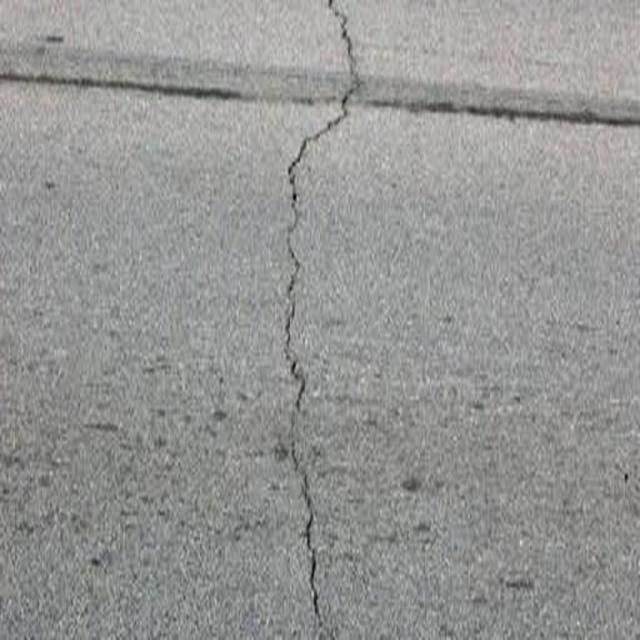Crack: (258, 2, 374, 640)
